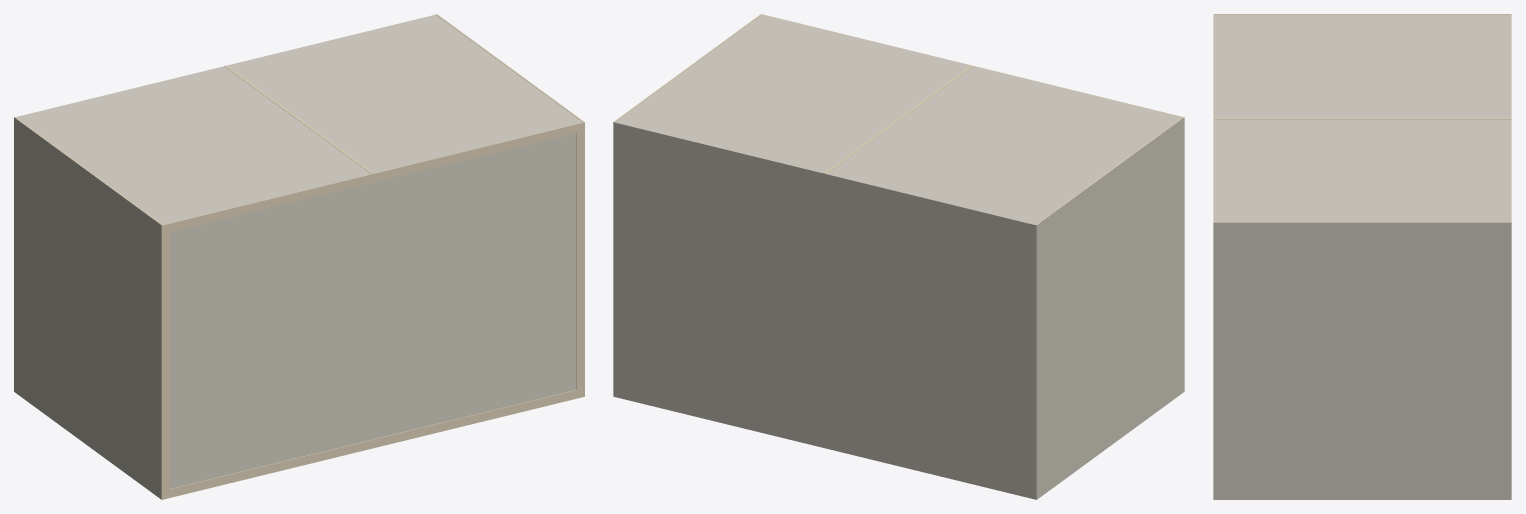
Rendered from v2-real-bench-1.glb.
3 views of the same model, side by side, from view 1: azimuth 30°, elevation 25°; view 2: azimuth 150°, elevation 25°; view 3: azimuth 270°, elevation 25° (orthographic).
Size of the model in its own units: 920 by 570 by 556.
